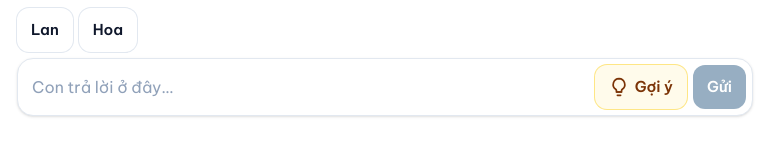
Test: AnswerPanel › offers the options of a choice item and Đúng/Sai for a boolean item as quick answers
The width and height of the screenshot is (770, 160).
Click the button "Hoa": (108,30) [79,8,137,52]
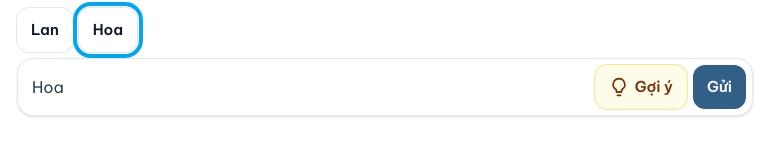
Now the text box holds "Hoa", box [24,65,589,109]
